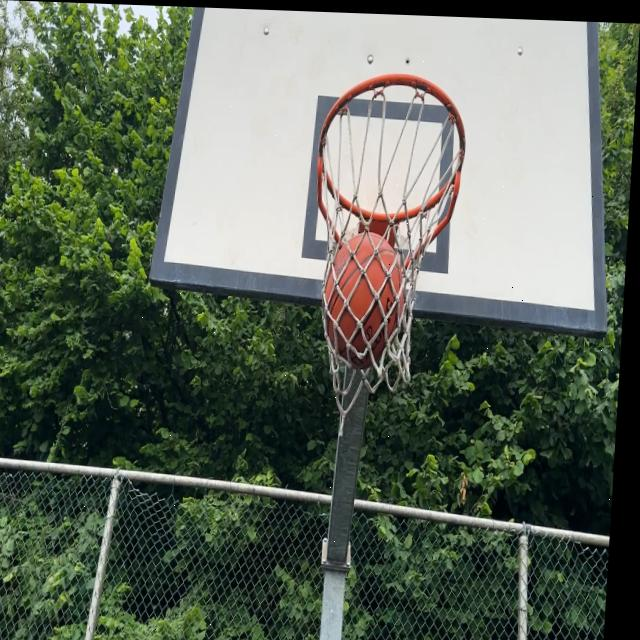Goal: (321, 233, 409, 366)
